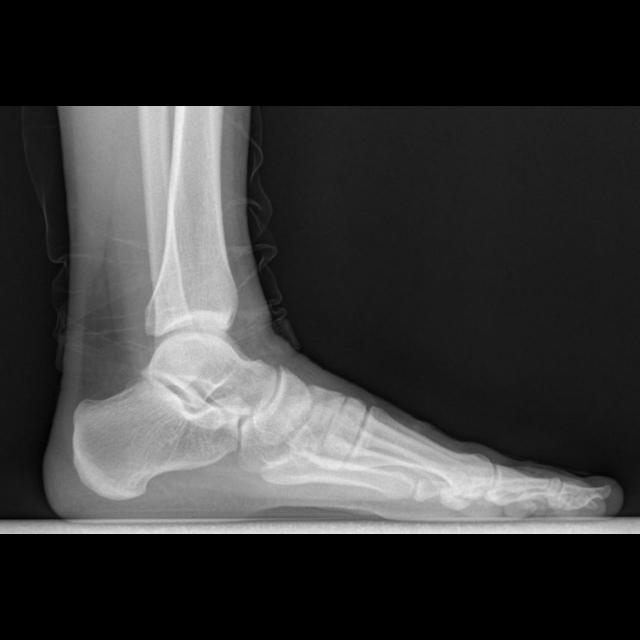a: (69, 381, 243, 498)
b: (255, 367, 314, 446)
c: (355, 409, 497, 509)
